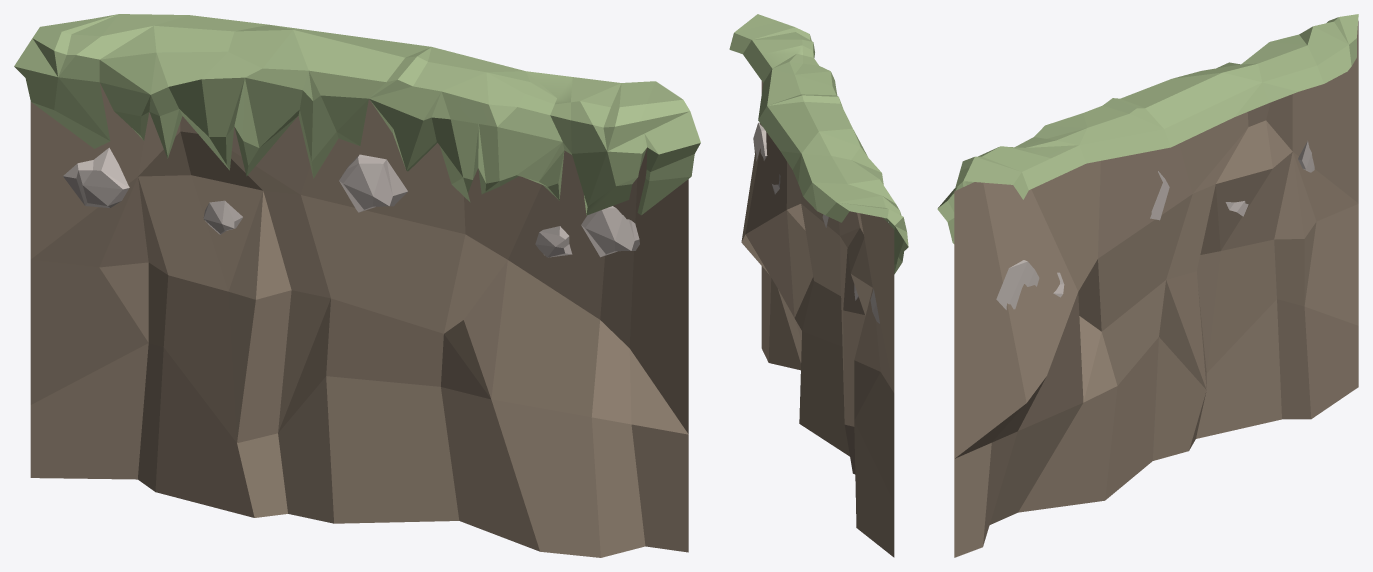
The model's file is ER_Terrain_1x1_GrassDiagonal_001_A1.fbx.
3 renders of one model, left to right at view 1: azimuth 30°, elevation 25°; view 2: azimuth 150°, elevation 25°; view 3: azimuth 270°, elevation 25°, orthographic. The views are drawn at different scales.
Visible parts, largest first — view 1: ER_Terrain_1x1_GrassDiagonal_001_A1; view 2: ER_Terrain_1x1_GrassDiagonal_001_A1; view 3: ER_Terrain_1x1_GrassDiagonal_001_A1.
Boxes of the visible parts, x1,y1,x2,y2 form: ER_Terrain_1x1_GrassDiagonal_001_A1: [14, 14, 700, 557]; ER_Terrain_1x1_GrassDiagonal_001_A1: [729, 14, 908, 557]; ER_Terrain_1x1_GrassDiagonal_001_A1: [937, 14, 1358, 557].
Bounding box in the file's own units: 1.05 × 1.06 × 1.04.
